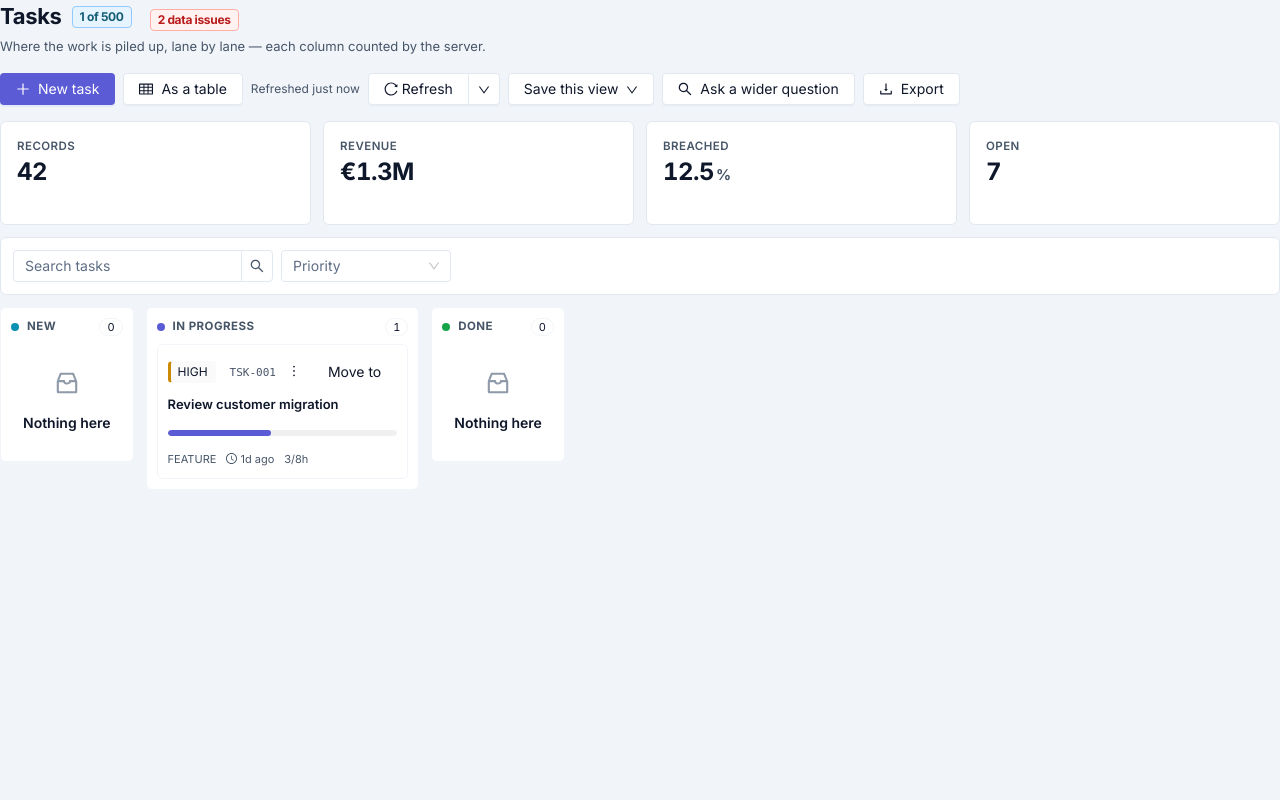
the edit form, before it has anything to show › explains a record with nothing writable instead of an empty form
Click the button named "Actions for ".
click(294, 371)  # box [282,359,306,383]
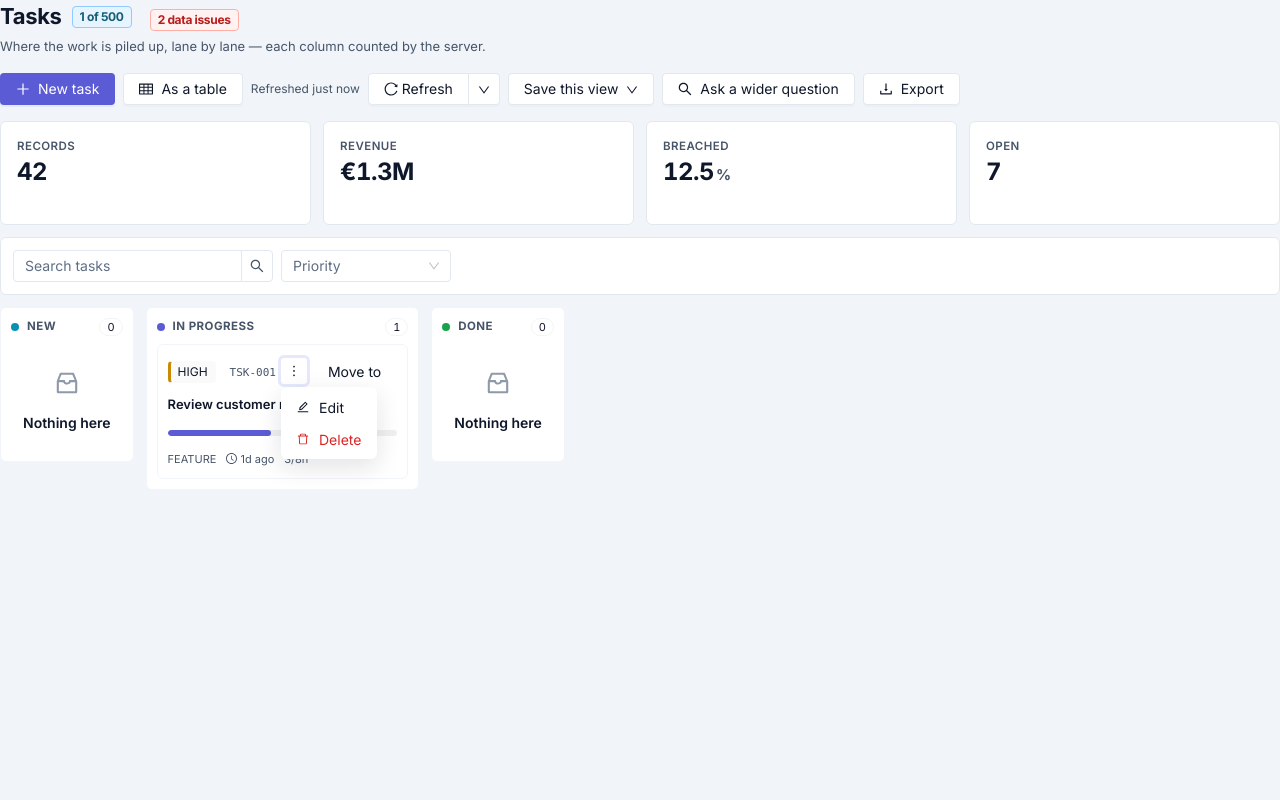
Click the menu item "Edit".
click(320, 407)  # box [297,398,344,416]
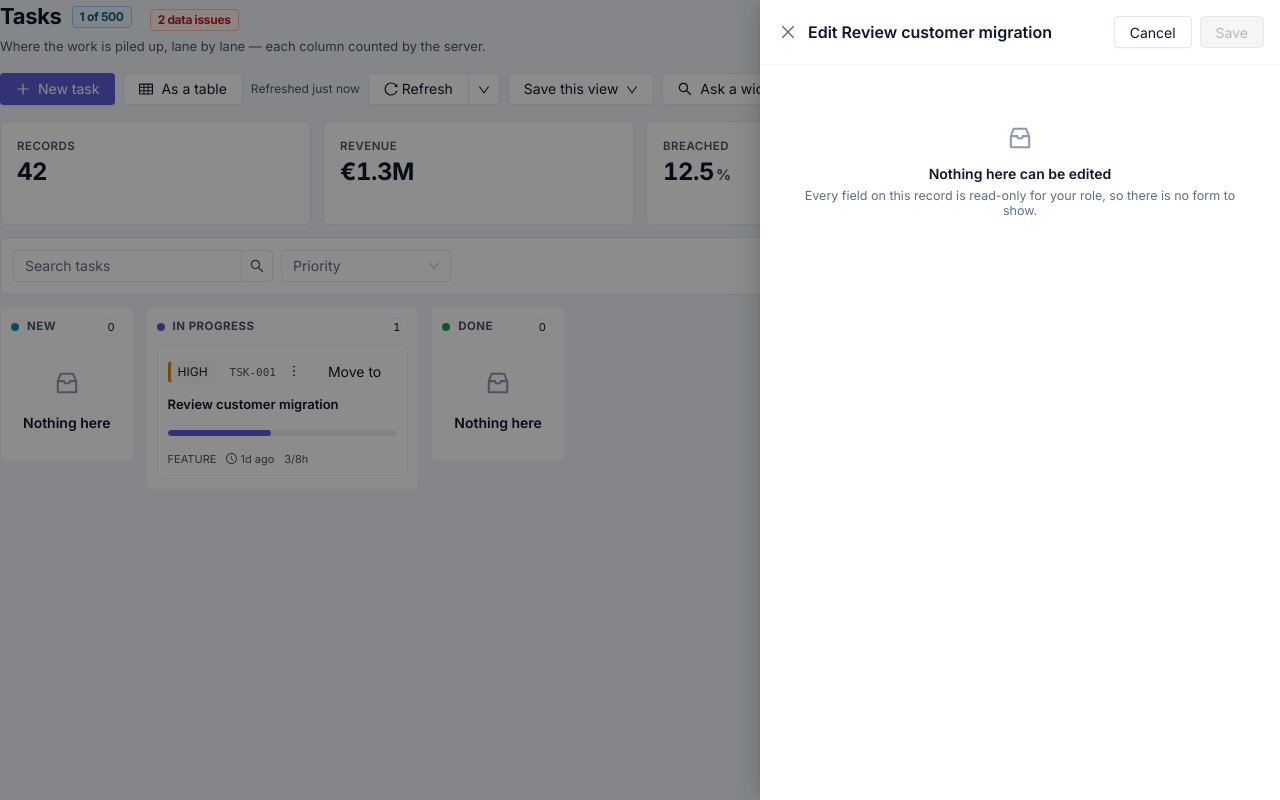
Expected: the element with test id "empty-state" shows "Nothing here can be edited", [929,165,1111,182]
Expected: the element with test id "empty-state" shows "read-only for your role", [805,188,1235,218]
Expected: the button with test id "record-form-save" is disabled, [1200,16,1264,48]
